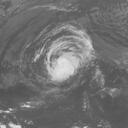cyclone: (36, 22, 94, 82)
